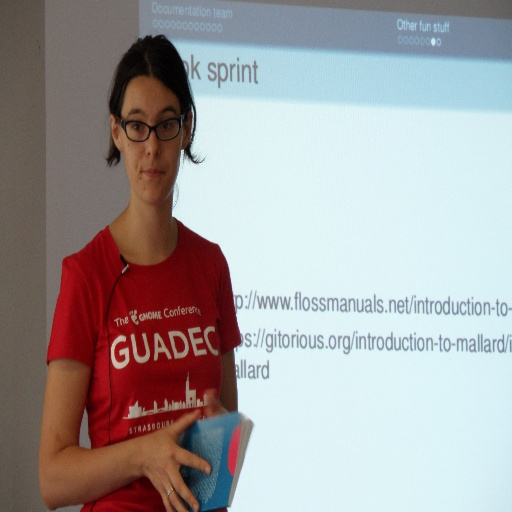hand: (115, 424, 190, 495), (204, 389, 229, 511)
